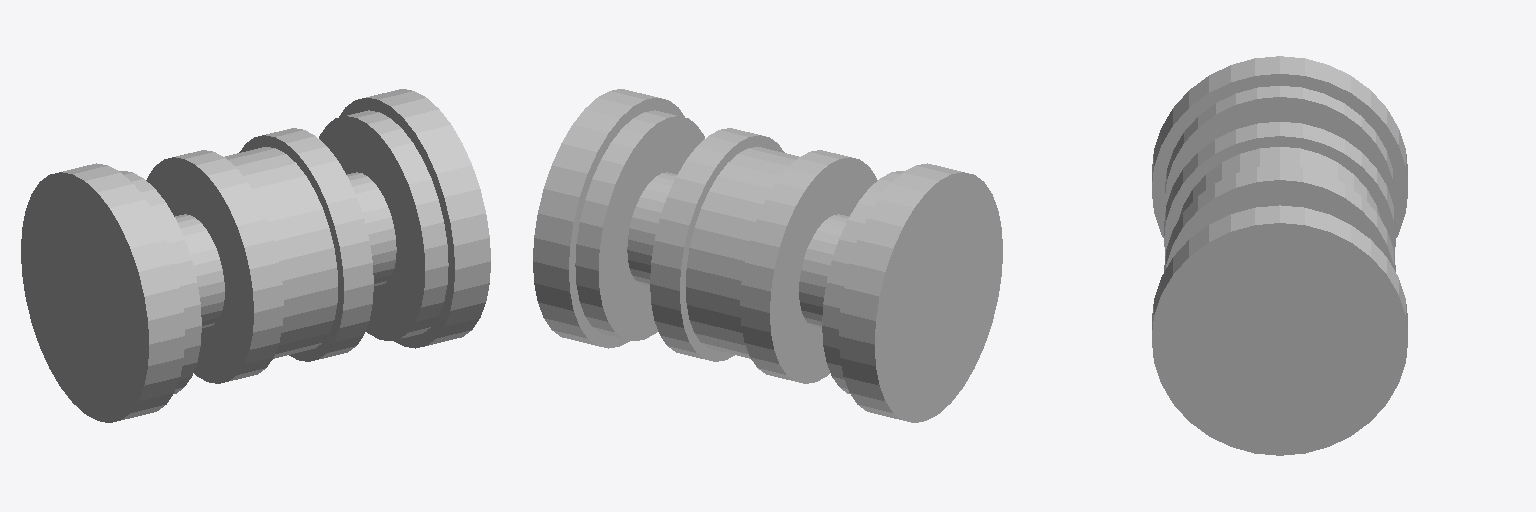
The model's file is paka_1.obj.
The picture shows the model from 3 angles: view 1: azimuth 30°, elevation 25°; view 2: azimuth 150°, elevation 25°; view 3: azimuth 270°, elevation 25°; orthographic projection.
Parts seen in each view (by area): view 1: Cylinder.006; view 2: Cylinder.006; view 3: Cylinder.006.
Boxes of the visible parts, <box> form: Cylinder.006: <box>21,89,490,422</box>; Cylinder.006: <box>533,89,1002,422</box>; Cylinder.006: <box>1152,56,1407,455</box>.
Bounding box in the file's own units: 0.1434 × 0.0934 × 0.0934.